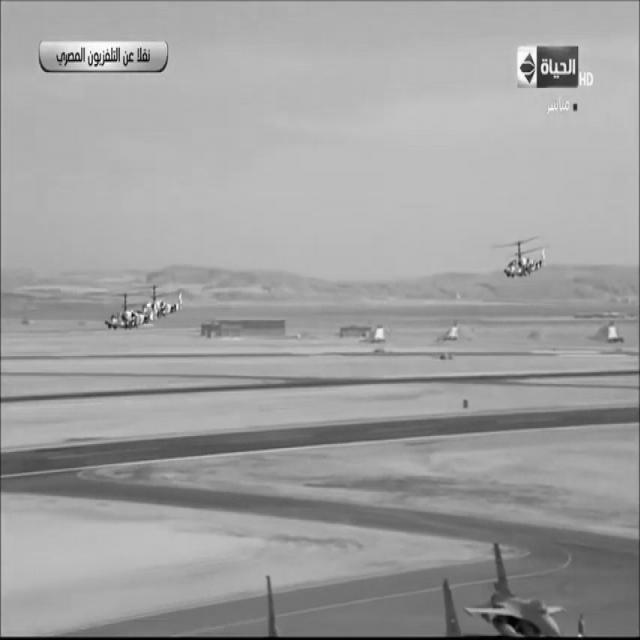helikopter: (100, 256, 202, 356), (492, 217, 574, 311)
